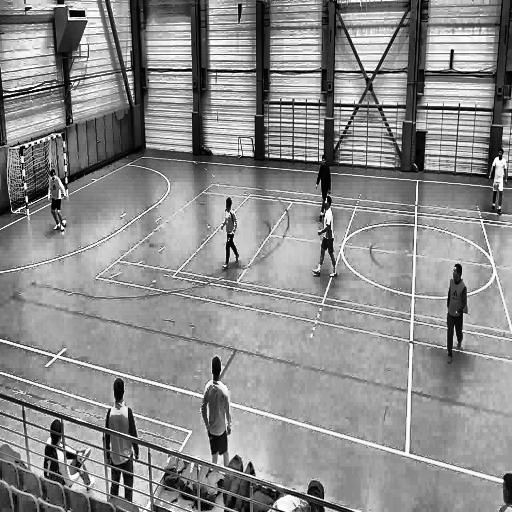ball: (60, 216, 68, 228)
player: (104, 373, 138, 506), (200, 351, 234, 462), (442, 264, 470, 365), (312, 196, 338, 280), (45, 165, 68, 233), (220, 195, 240, 273), (488, 147, 508, 216), (315, 154, 330, 224)
